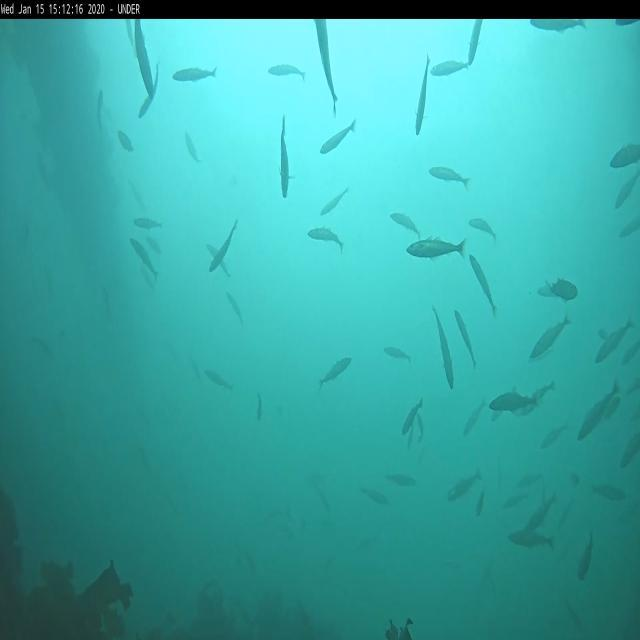fish: (578, 376, 622, 438), (312, 19, 339, 112), (430, 302, 456, 390), (530, 314, 570, 360), (596, 315, 634, 362), (469, 254, 496, 318), (525, 491, 561, 536), (134, 20, 154, 100), (208, 221, 238, 273), (454, 307, 478, 369), (447, 467, 482, 508), (319, 118, 356, 156), (414, 52, 430, 138), (406, 238, 466, 260), (138, 64, 160, 119), (508, 529, 556, 553), (488, 389, 538, 412), (130, 238, 158, 278), (524, 379, 554, 416), (428, 164, 470, 190), (614, 168, 640, 209), (318, 358, 351, 390), (307, 225, 344, 253), (278, 115, 290, 199), (539, 421, 569, 454), (172, 64, 217, 84), (206, 242, 231, 278), (390, 212, 422, 240), (320, 184, 349, 214), (546, 276, 578, 302), (578, 530, 594, 582), (466, 20, 484, 66), (529, 18, 588, 32), (402, 398, 422, 437), (620, 429, 640, 468), (387, 468, 418, 493), (593, 482, 626, 504), (610, 142, 639, 167), (468, 217, 497, 242), (268, 62, 306, 81), (358, 484, 388, 508), (464, 398, 484, 433), (204, 370, 232, 394), (384, 342, 412, 366), (224, 290, 243, 324), (518, 469, 546, 492), (430, 58, 470, 74), (184, 130, 203, 163), (618, 213, 640, 240), (536, 282, 566, 300), (117, 128, 135, 154), (96, 87, 105, 132), (134, 216, 162, 230), (256, 388, 264, 423)
